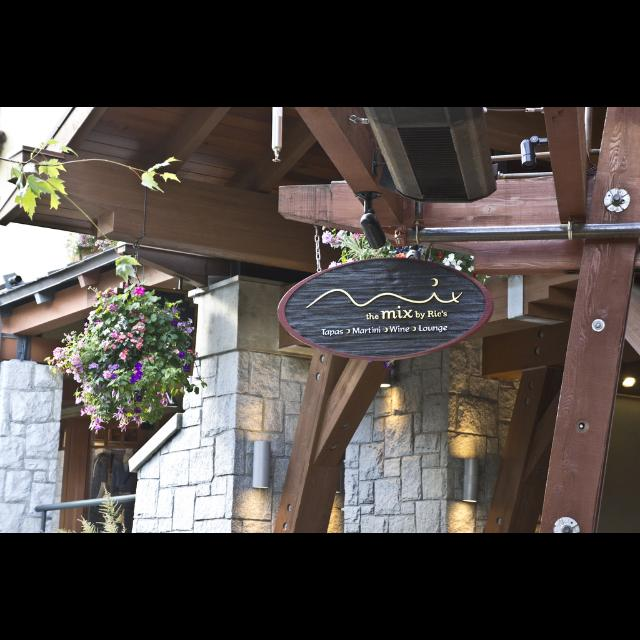Flower: (46, 332, 110, 432), (102, 312, 148, 364), (78, 284, 119, 326), (164, 309, 193, 335), (322, 227, 362, 245), (76, 234, 112, 252), (172, 348, 198, 372), (440, 257, 472, 275), (128, 356, 152, 378), (110, 408, 128, 430), (388, 244, 417, 256), (156, 388, 172, 409), (104, 362, 116, 382), (132, 406, 144, 424), (132, 283, 146, 297), (330, 260, 352, 268), (382, 362, 391, 372)
